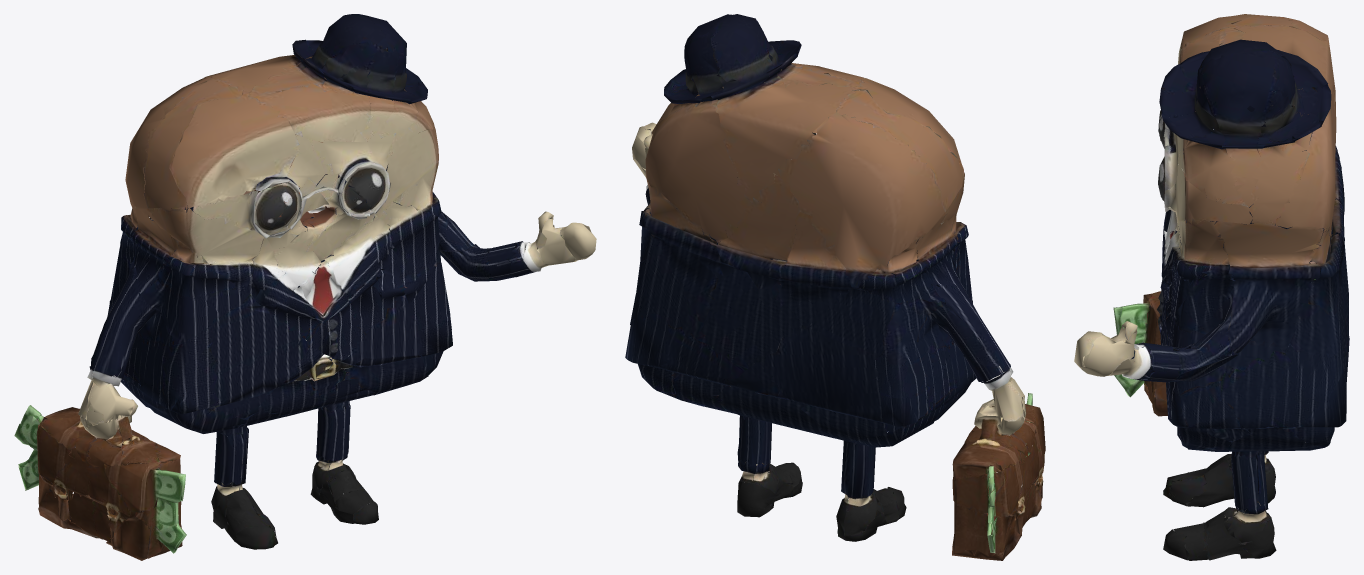
File: toast-tycoon.glb
3 views of the same model, side by side, from view 1: azimuth 30°, elevation 25°; view 2: azimuth 150°, elevation 25°; view 3: azimuth 270°, elevation 25° (orthographic). The views are drawn at different scales.
Visible parts, largest first — view 1: Mesh_0; view 2: Mesh_0; view 3: Mesh_0.
Boxes of the visible parts, x1,y1,x2,y2 form: Mesh_0: (14,14,596,560); Mesh_0: (625,14,1045,560); Mesh_0: (1074,14,1349,560).
Bounding box in the file's own units: 1.9 × 1.85 × 0.8869.
Materials: 1 (1 with a texture image).
